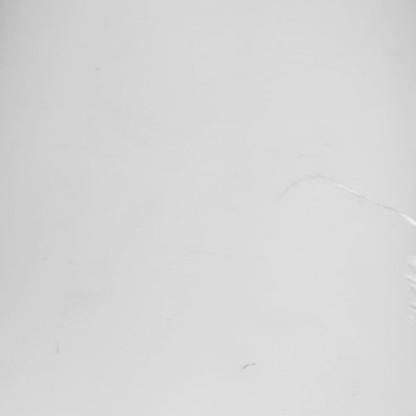sunshang: (338, 183, 416, 230), (405, 256, 416, 315)
